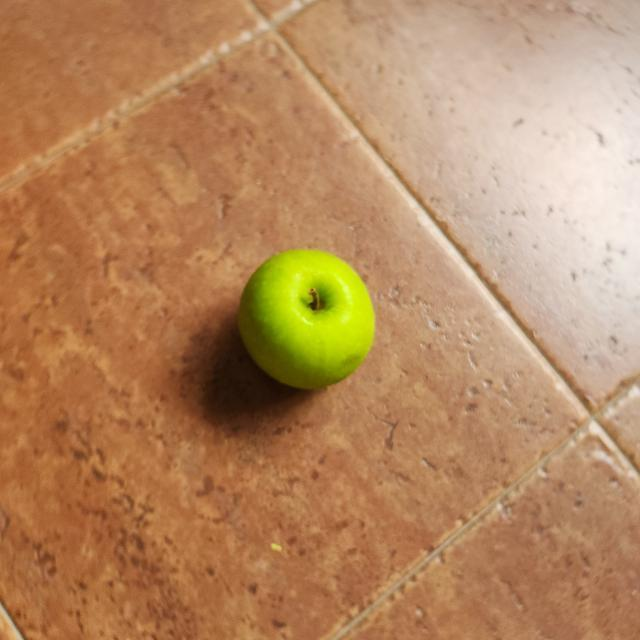apple: (231, 240, 375, 402)
